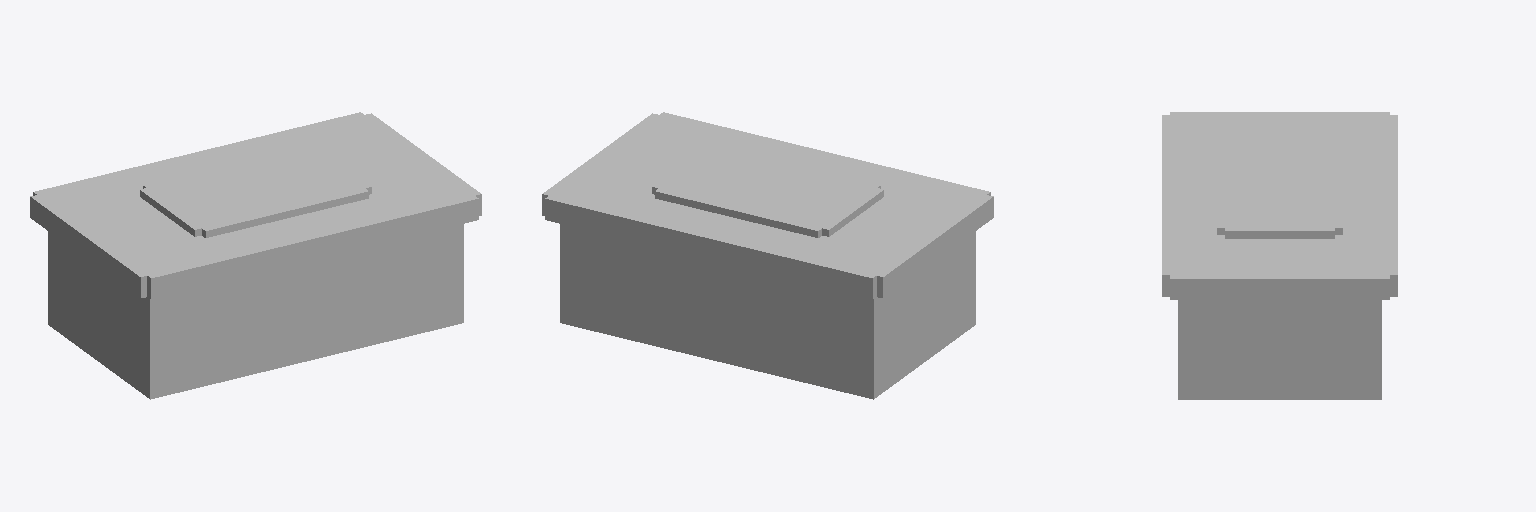
Rendered from 1P_Chopping board.obj.
3 views of the same model, side by side, from view 1: azimuth 30°, elevation 25°; view 2: azimuth 150°, elevation 25°; view 3: azimuth 270°, elevation 25° (orthographic).
Parts seen in each view (by area): view 1: object 1; view 2: object 1; view 3: object 1.
Boxes of the visible parts, box(x1,y1,x2,y2) form: object 1: box(30, 112, 481, 399); object 1: box(542, 112, 993, 399); object 1: box(1162, 112, 1397, 399).
Size of the model in its own units: 5 by 1.9 by 3.